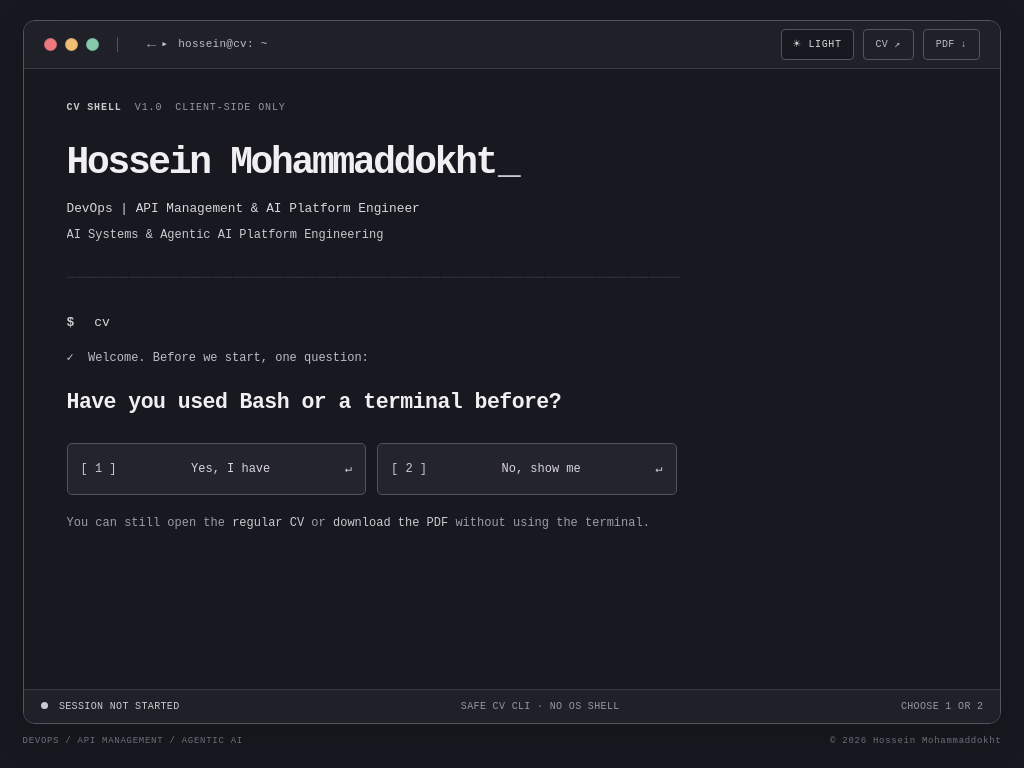
Scenario: Terminal-first CV interaction › eases the prompt into view on a paced scroll after expert mode selection
Click the button "[ 1 ] Yes, I have ↵" at (216, 469), box [66,443,366,495]
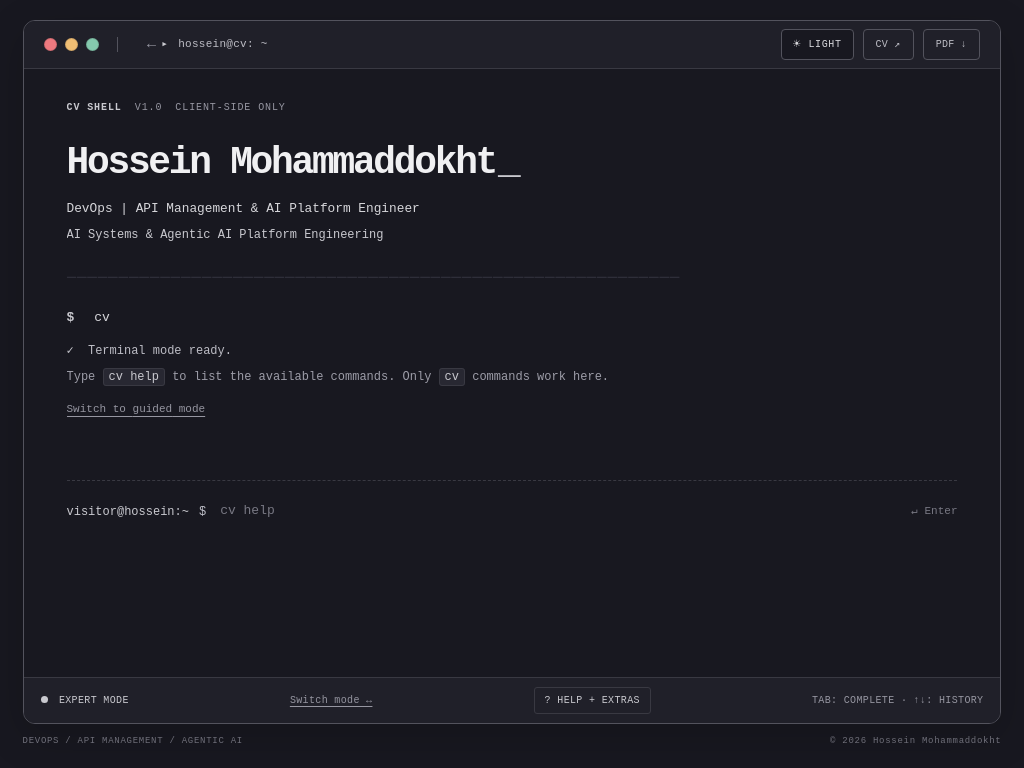
Expected: the text "EXPERT MODE" is shown, [40,693,129,708]
Expected: the text "Terminal mode ready." is shown, [88,344,232,358]
Expected: the field with id "cvcli-command" is shown, [220,501,897,522]
